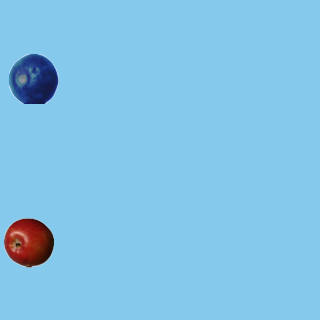Apple Braeburn: (3, 217, 53, 267)
Huckleberry: (8, 53, 58, 103)
